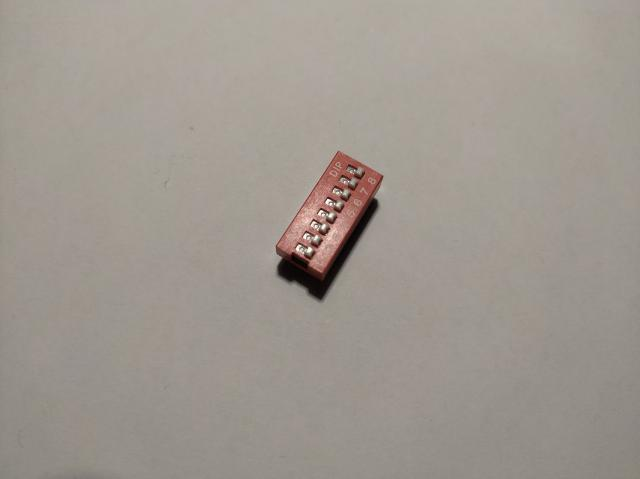dip_switch: (276, 151, 384, 283)
